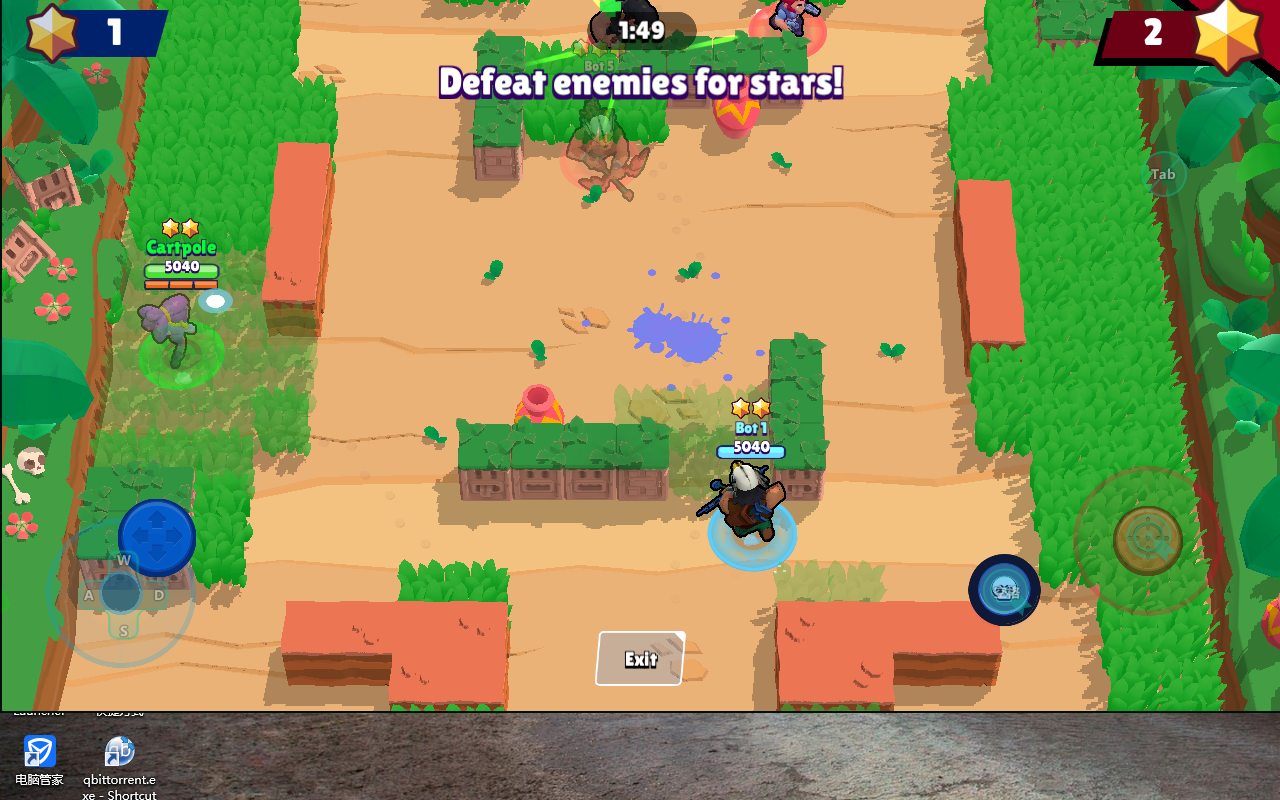current_player: (137, 326, 224, 392)
